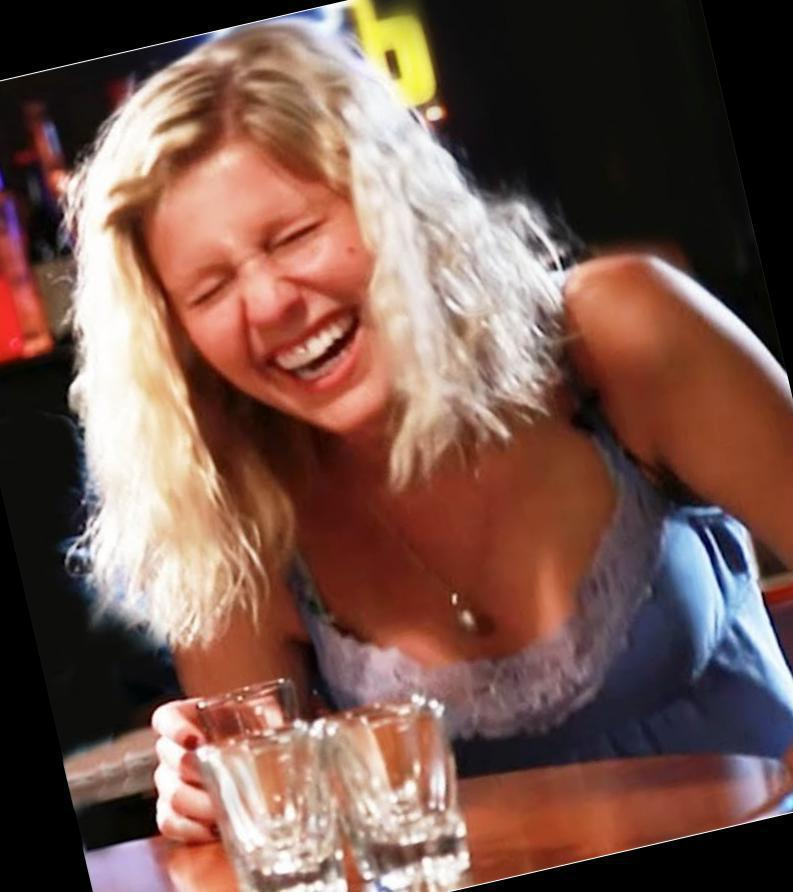Drunk: (151, 158, 389, 429)
